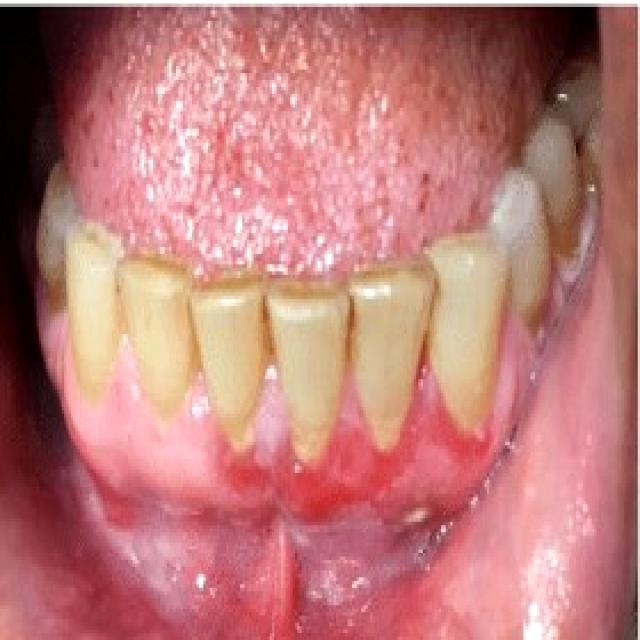gingivitis: (41, 282, 533, 511)
